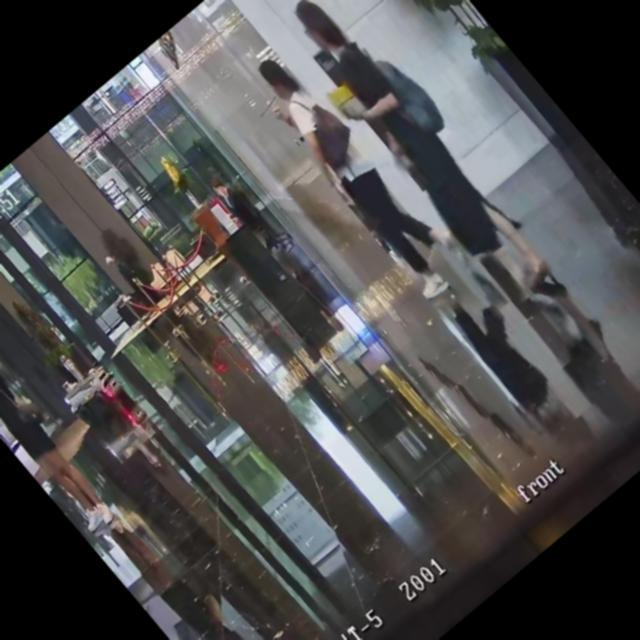person: (268, 0, 527, 272), (241, 39, 477, 304), (0, 320, 126, 543), (102, 246, 166, 316), (204, 168, 260, 228)
